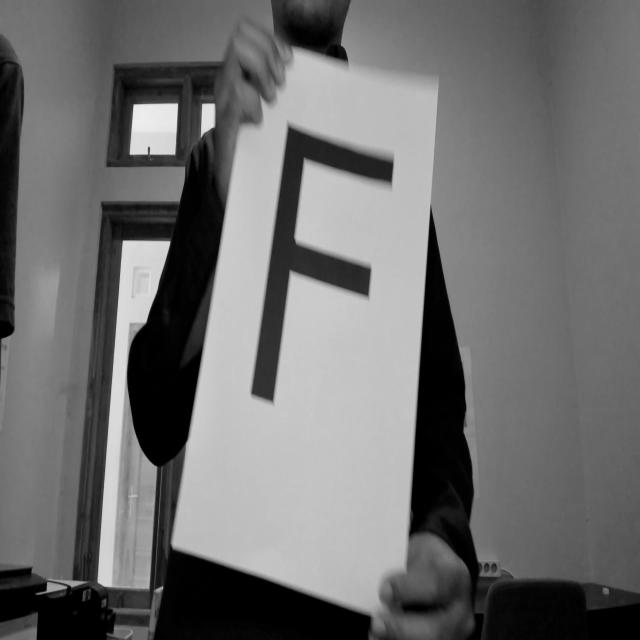f: (245, 87, 401, 449)
